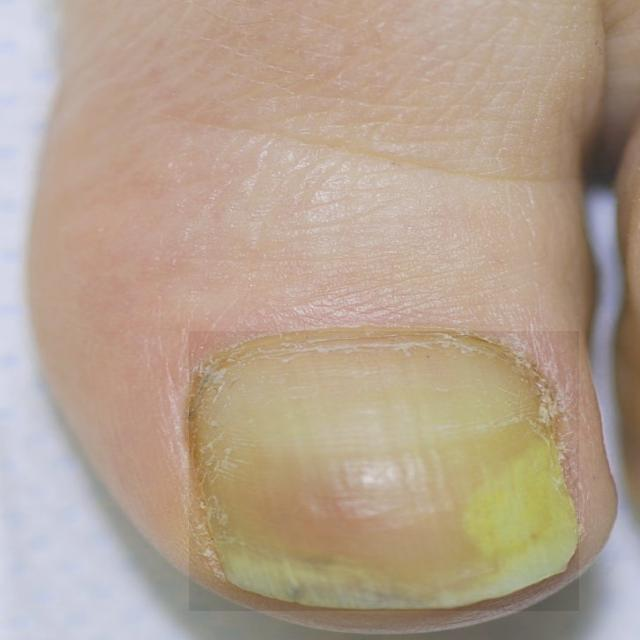diabetes: (189, 331, 579, 611)
